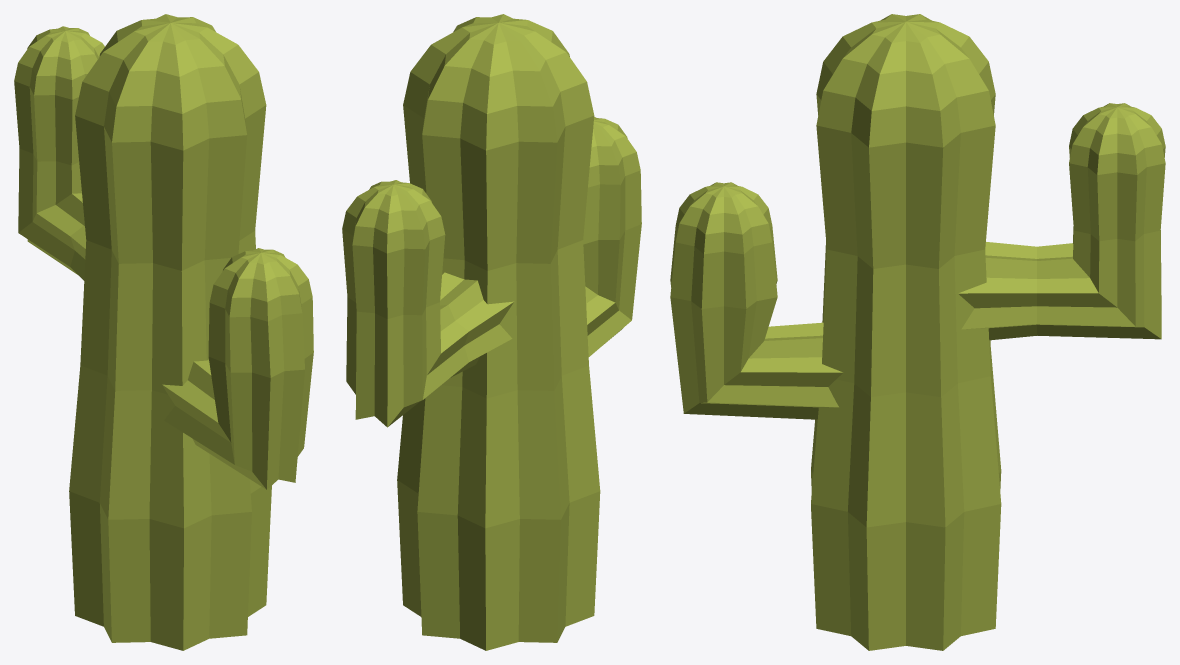
Rendered from CaKtu.fbx.
3 views of the same model, side by side, from view 1: azimuth 30°, elevation 25°; view 2: azimuth 150°, elevation 25°; view 3: azimuth 270°, elevation 25° (orthographic).
Parts seen in each view (by area): view 1: Cacktu; view 2: Cacktu; view 3: Cacktu.
Part boxes in pixels (box(x1,y1,x2,y2)): Cacktu: box(14, 14, 313, 650); Cacktu: box(342, 14, 641, 650); Cacktu: box(670, 14, 1165, 650).
Size of the model in its own units: 11.83 by 40.52 by 30.76.
